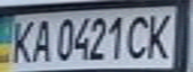0: (54, 15, 75, 62)
1: (106, 12, 130, 61)
2: (87, 12, 112, 61)
4: (72, 14, 93, 62)
A: (27, 16, 54, 63)
C: (124, 11, 154, 61)
K: (139, 9, 178, 60), (3, 17, 39, 65)
